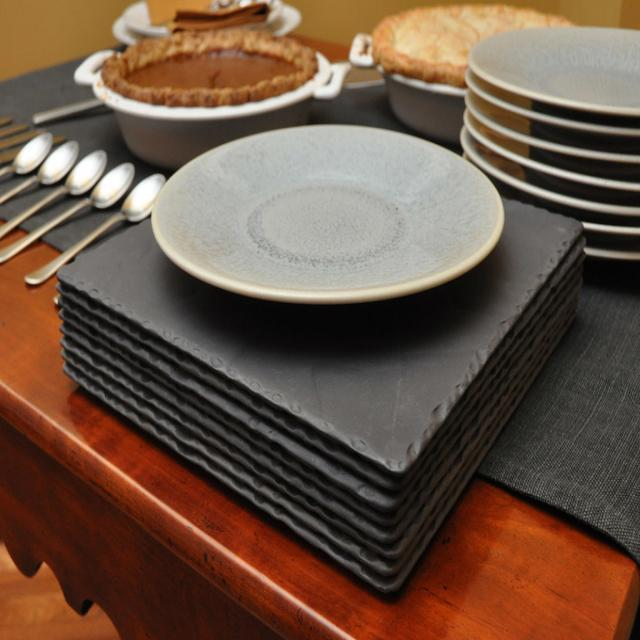ceramic plate: (140, 118, 506, 336)
